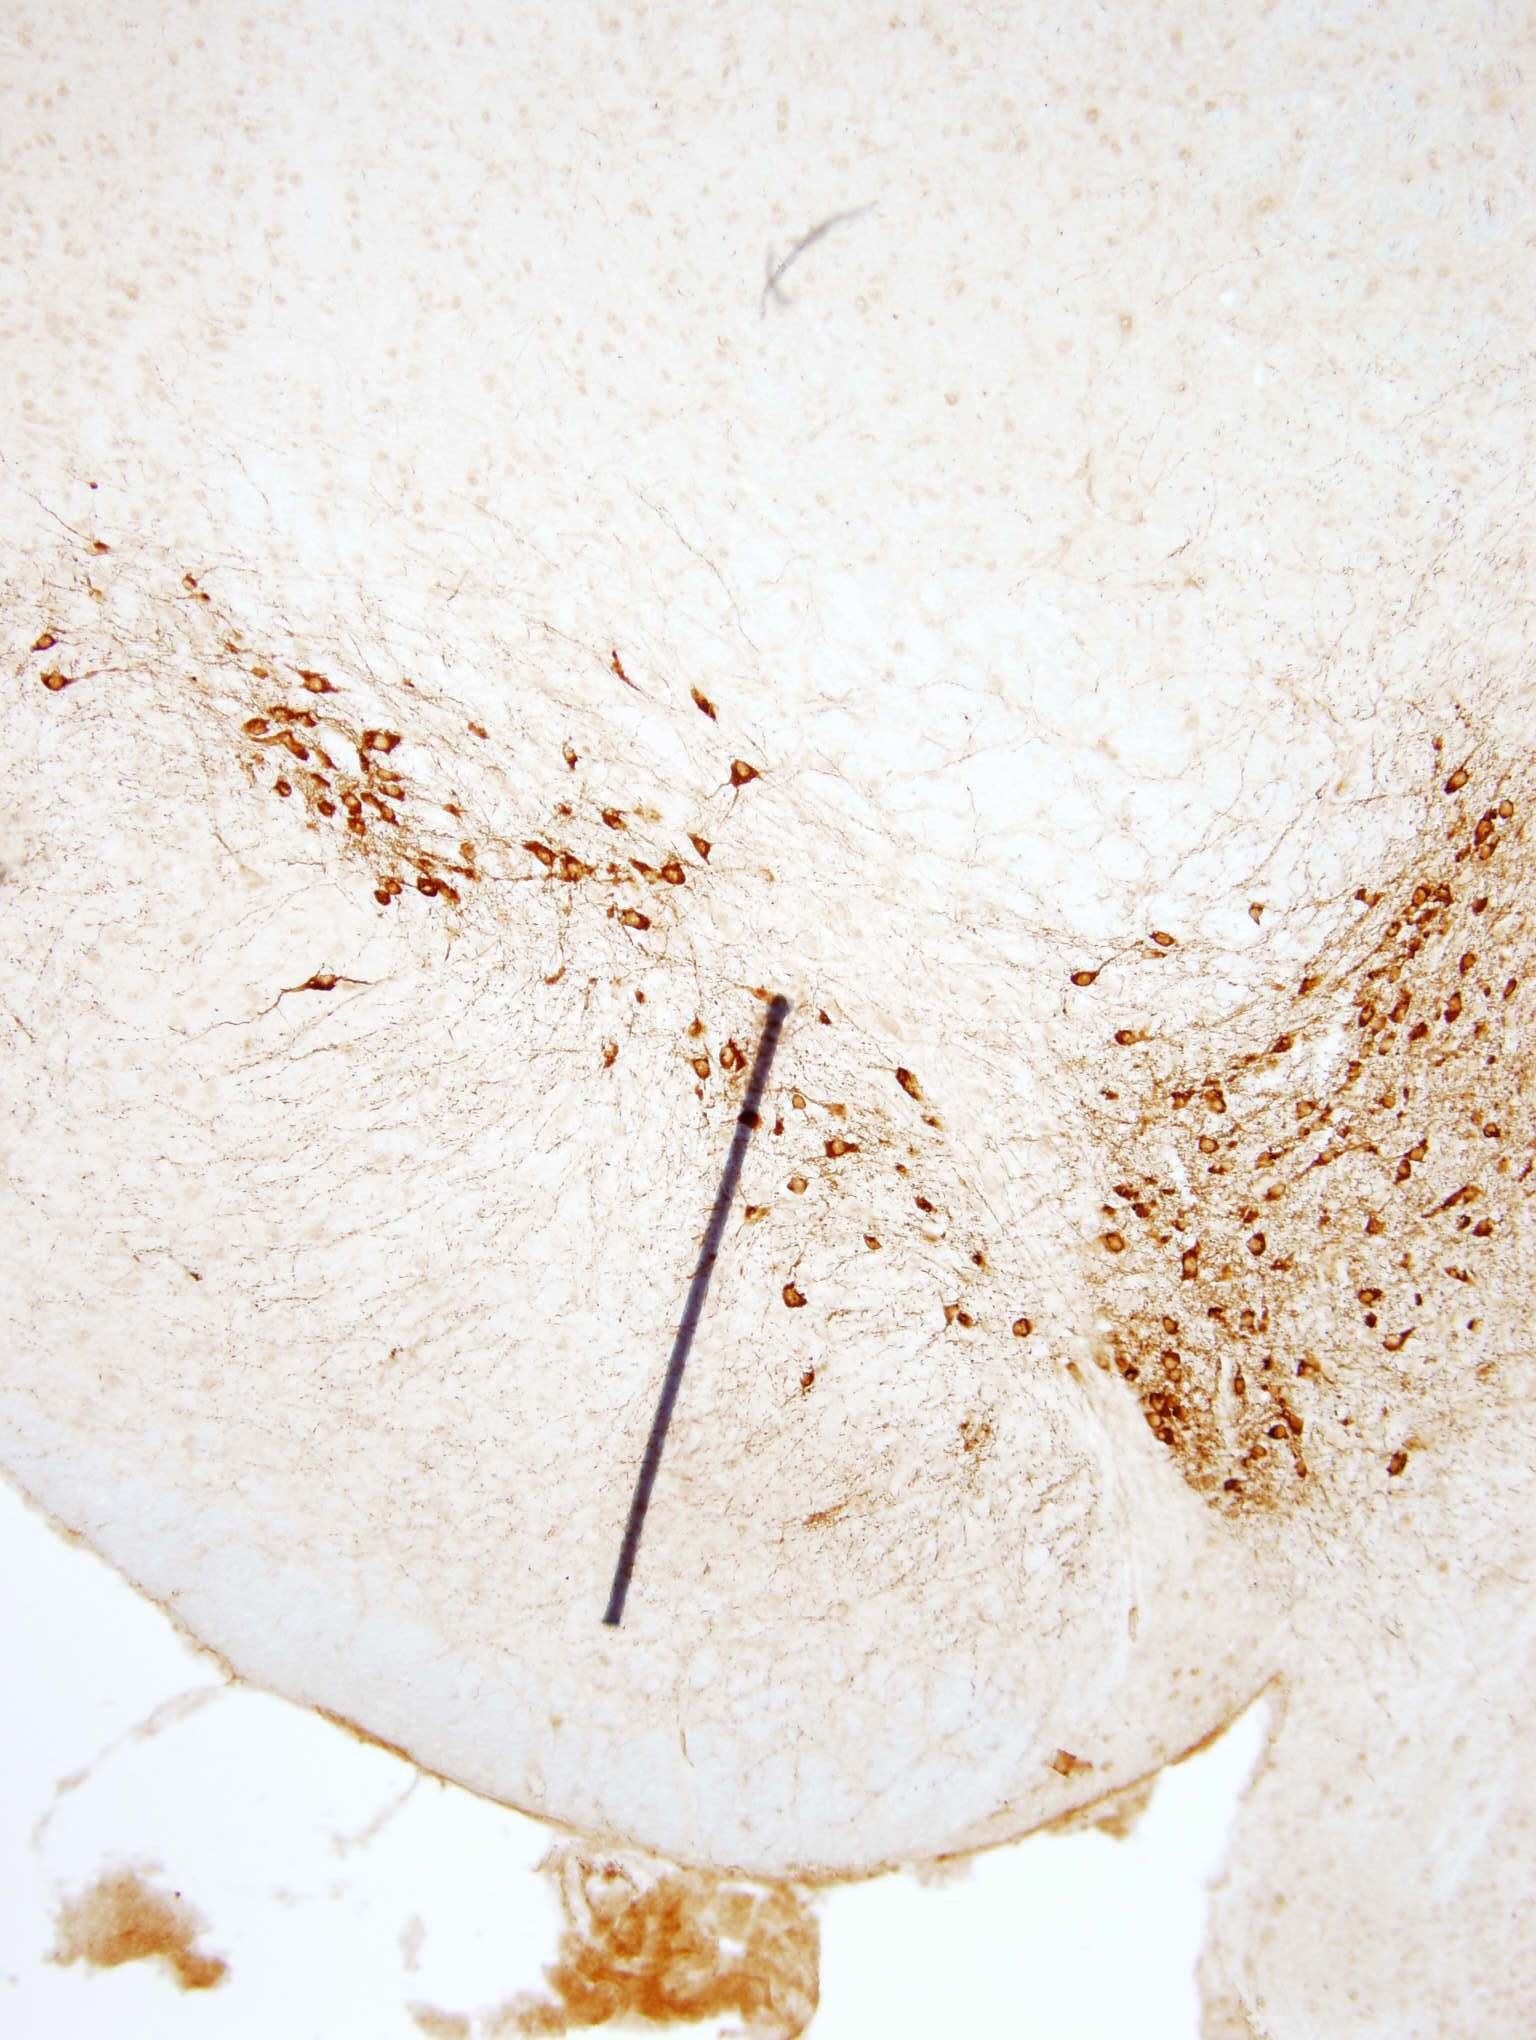neuron: (1292, 964, 1329, 1001), (1475, 839, 1512, 876), (282, 740, 319, 777), (298, 664, 336, 702), (658, 860, 695, 897), (824, 1135, 862, 1172), (849, 1227, 886, 1264), (1004, 1318, 1039, 1355), (1112, 1021, 1149, 1056), (1133, 935, 1168, 972), (1149, 914, 1184, 951), (1167, 1085, 1202, 1122), (1187, 1124, 1225, 1159), (1207, 1085, 1242, 1122), (1244, 1230, 1279, 1268), (1254, 1142, 1291, 1177), (1267, 1030, 1304, 1066), (1438, 763, 1475, 798), (266, 776, 302, 813), (27, 627, 65, 663), (294, 698, 329, 735), (307, 964, 342, 1001), (332, 785, 369, 821), (32, 669, 69, 705), (374, 798, 410, 835), (528, 839, 563, 876), (553, 740, 591, 776), (602, 798, 637, 835), (679, 834, 716, 869), (684, 1048, 720, 1085), (724, 758, 762, 793), (779, 1172, 815, 1209), (916, 1101, 954, 1137), (942, 1300, 979, 1335), (1068, 963, 1104, 998), (1097, 1230, 1133, 1266), (1128, 1190, 1163, 1226), (1168, 1247, 1204, 1282), (1171, 1206, 1207, 1242), (1242, 892, 1278, 927), (1260, 1177, 1296, 1213), (1288, 1097, 1323, 1132), (1310, 1142, 1346, 1177), (1350, 874, 1386, 910), (1467, 808, 1502, 843), (239, 710, 274, 745), (363, 724, 399, 760), (566, 851, 602, 887), (620, 901, 655, 937), (629, 855, 665, 890), (674, 1010, 710, 1045), (721, 1039, 757, 1074), (778, 1277, 813, 1313), (783, 1087, 818, 1122), (889, 1066, 925, 1101), (966, 1250, 1002, 1285), (1144, 1392, 1168, 1416), (1144, 1408, 1168, 1432), (1155, 1426, 1179, 1450), (1160, 1350, 1184, 1374), (1162, 1316, 1186, 1340), (1162, 1390, 1186, 1414), (1173, 1405, 1197, 1429), (1204, 1159, 1228, 1184), (1223, 1377, 1247, 1401), (1229, 1455, 1254, 1479), (1238, 1308, 1262, 1332), (1246, 1448, 1270, 1472), (1267, 1424, 1291, 1448), (1284, 1414, 1309, 1438), (1292, 1363, 1317, 1387), (1292, 1459, 1317, 1484), (1310, 1119, 1334, 1143), (1331, 1116, 1355, 1140), (1341, 1053, 1365, 1077), (1355, 1000, 1379, 1024), (1357, 1035, 1381, 1060), (1365, 1011, 1389, 1035), (1376, 1030, 1400, 1055), (1379, 918, 1404, 942), (1383, 1330, 1407, 1355), (1383, 964, 1407, 989), (1384, 1451, 1409, 1476), (1394, 1159, 1418, 1184), (1397, 1085, 1421, 1110), (1402, 898, 1426, 922), (1409, 881, 1433, 905), (1417, 914, 1441, 939), (1433, 882, 1457, 906), (1442, 997, 1467, 1021), (1459, 953, 1483, 977), (1467, 892, 1491, 916), (1471, 1022, 1496, 1047), (1476, 1214, 1501, 1239), (1501, 979, 1525, 1003), (316, 801, 340, 826), (345, 819, 369, 843), (378, 764, 402, 789), (382, 876, 407, 900), (416, 885, 440, 910), (461, 843, 486, 868), (84, 589, 108, 613), (1120, 1364, 1142, 1388), (1163, 1371, 1187, 1393), (1275, 1255, 1299, 1277), (1359, 1284, 1383, 1306), (1379, 1092, 1404, 1114), (1391, 998, 1413, 1022), (1409, 1142, 1433, 1164), (1412, 1026, 1434, 1050), (1455, 1184, 1480, 1206), (1467, 1314, 1489, 1338), (1481, 1121, 1505, 1143), (1496, 797, 1520, 819), (174, 576, 198, 598), (194, 597, 218, 619), (382, 784, 407, 806), (86, 539, 110, 561), (373, 892, 395, 914)
